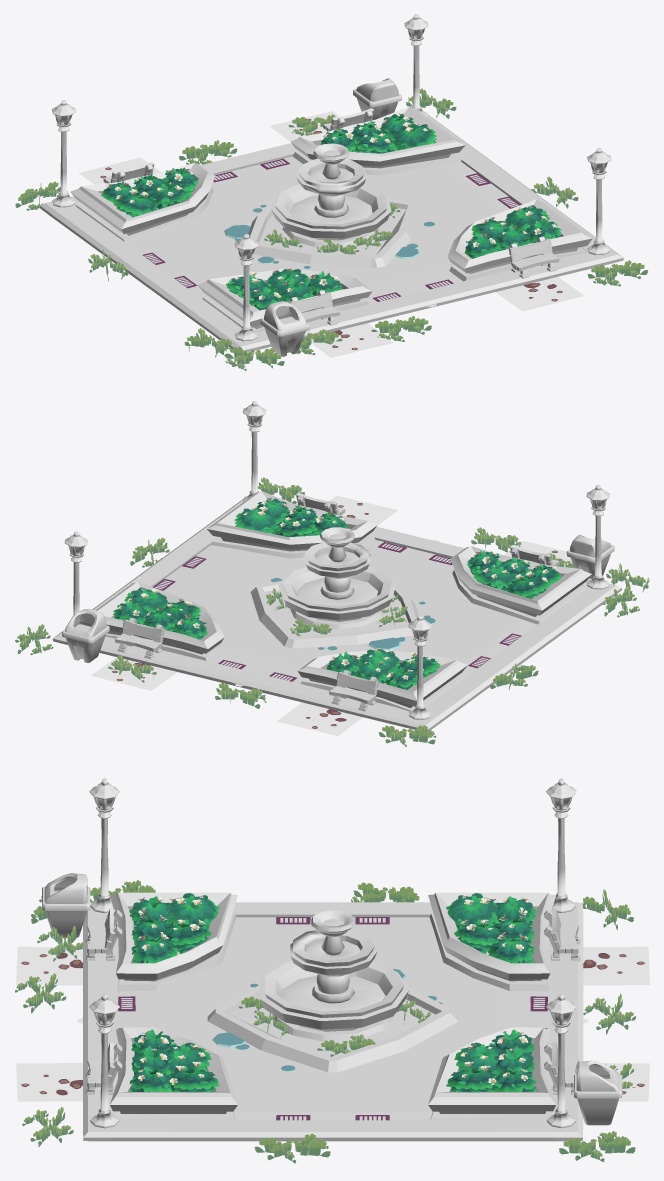
Rendered from taman_air mancur.fbx.
3 renders of one model, top to bottom at view 1: azimuth 30°, elevation 25°; view 2: azimuth 150°, elevation 25°; view 3: azimuth 270°, elevation 25°, orthographic. The views are drawn at different scales.
Visible parts, largest first — view 1: Plane.011, Cube.039, Cube, rumput, Cylinder, Plane.001, TEX_DEKOR.001, park lamp, bench.002, Cube.015, Cube.016, Plane.016 (+1 smaller); view 2: Plane.011, Cube.039, Cube, Cylinder, rumput, Plane.001, TEX_DEKOR.001, park lamp, bench.002, Cube.016, Plane.016, Cube.015 (+1 smaller); view 3: Plane.011, Cube.039, Cube, Cylinder, rumput, TEX_DEKOR.001, Plane.001, park lamp, bench.002, Cube.016, Cube.015, Plane.016 (+1 smaller).
Part boxes in pixels (x1,y1,x2,y2): Plane.011: [39, 114, 623, 352]; Cube.039: [70, 106, 592, 332]; Cube: [101, 113, 561, 310]; rumput: [15, 88, 648, 370]; Cylinder: [270, 143, 391, 247]; Plane.001: [248, 188, 420, 267]; TEX_DEKOR.001: [78, 111, 584, 357]; park lamp: [51, 14, 611, 341]; bench.002: [103, 108, 559, 331]; Cube.015: [260, 301, 309, 356]; Cube.016: [353, 78, 401, 120]; Plane.016: [142, 158, 520, 301]; Plane.011: [52, 499, 621, 731]; Cube.039: [95, 491, 591, 711]; Cube: [113, 498, 561, 689]; Cylinder: [278, 527, 395, 629]; rumput: [15, 477, 649, 747]; Plane.001: [250, 571, 418, 648]; TEX_DEKOR.001: [91, 495, 572, 735]; park lamp: [64, 401, 610, 719]; bench.002: [115, 492, 559, 711]; Cube.016: [62, 609, 109, 662]; Plane.016: [153, 542, 521, 681]; Cube.015: [566, 534, 614, 578]; Plane.011: [83, 902, 583, 1141]; Cube.039: [110, 892, 555, 1120]; Cube: [129, 893, 536, 1092]; Cylinder: [260, 910, 409, 1041]; rumput: [15, 880, 636, 1163]; TEX_DEKOR.001: [16, 946, 649, 1101]; Plane.001: [207, 985, 458, 1072]; park lamp: [89, 778, 576, 1128]; bench.002: [86, 908, 579, 1095]; Cube.016: [574, 1060, 622, 1125]; Cube.015: [42, 873, 90, 937]; Plane.016: [118, 917, 547, 1120].
Size of the model in its own units: 2400 by 582 by 2341.
